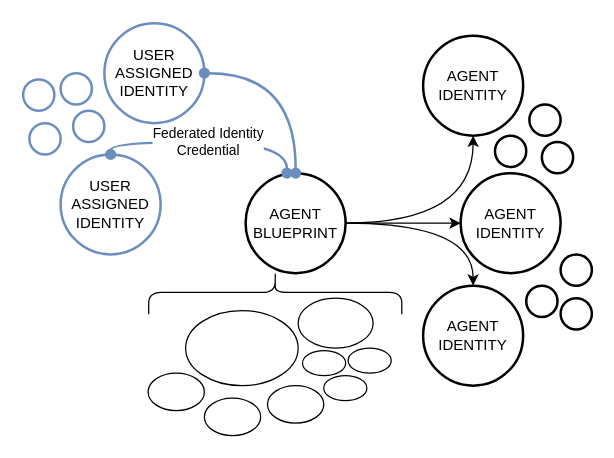
Image size: 614x458. Some labels were removed from this diagram. Each missing label, with the box of its shape:
IdentifierURI: (184, 309, 298, 386)
Scope: (297, 297, 373, 348)
